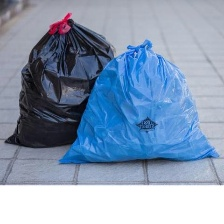plastic_bag: (51, 36, 224, 166), (1, 10, 118, 150)
